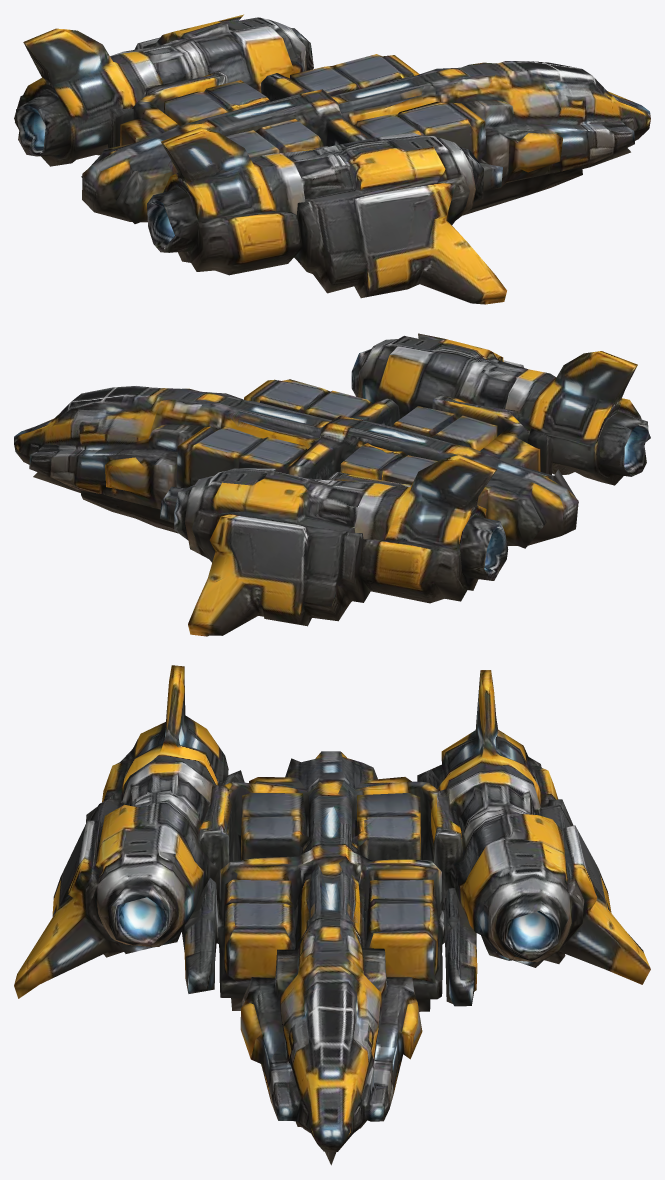
The model's file is courier.glb.
3 views of the same model, one above another, from view 1: azimuth 30°, elevation 25°; view 2: azimuth 150°, elevation 25°; view 3: azimuth 270°, elevation 25° (orthographic). The views are drawn at different scales.
Parts seen in each view (by area): view 1: tripo_node_c7241928-3764-427c-b119-d18a6a233aed; view 2: tripo_node_c7241928-3764-427c-b119-d18a6a233aed; view 3: tripo_node_c7241928-3764-427c-b119-d18a6a233aed.
Boxes of the visible parts, bbox=[...] form: tripo_node_c7241928-3764-427c-b119-d18a6a233aed: bbox=[14, 14, 650, 304]; tripo_node_c7241928-3764-427c-b119-d18a6a233aed: bbox=[14, 333, 650, 636]; tripo_node_c7241928-3764-427c-b119-d18a6a233aed: bbox=[14, 665, 650, 1165].
Size of the model in its own units: 0.9796 by 0.3468 by 0.8782.
1 material, 1 textured.
